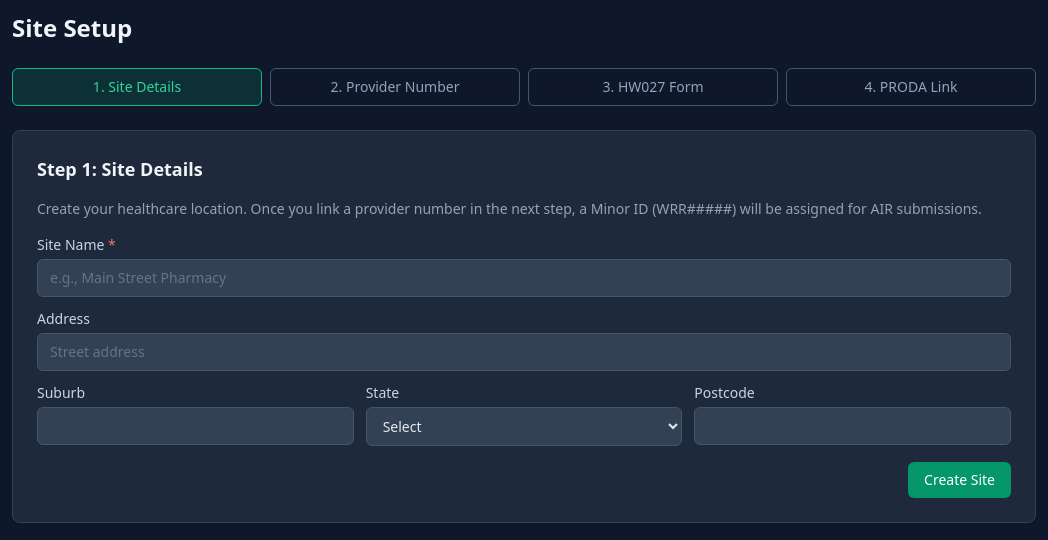
SetupWizard › navigates to provider step when clicking step button
Step 1. Click the button "2. Provider Number" → {"x": 395, "y": 87}, box x1=270 y1=68 x2=520 y2=106
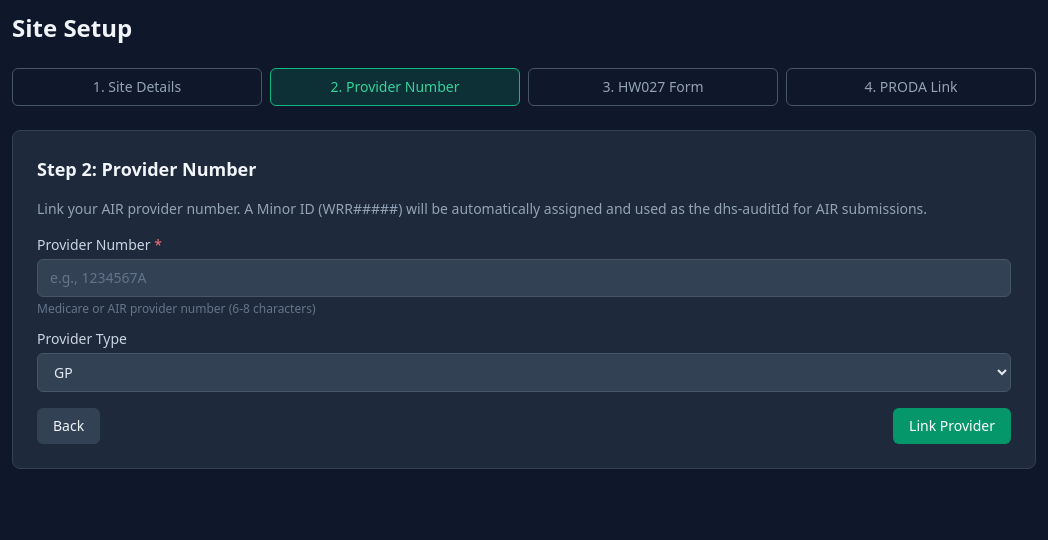
Now the heading "Step 2: Provider Number" is shown, box x1=37 y1=157 x2=256 y2=181
